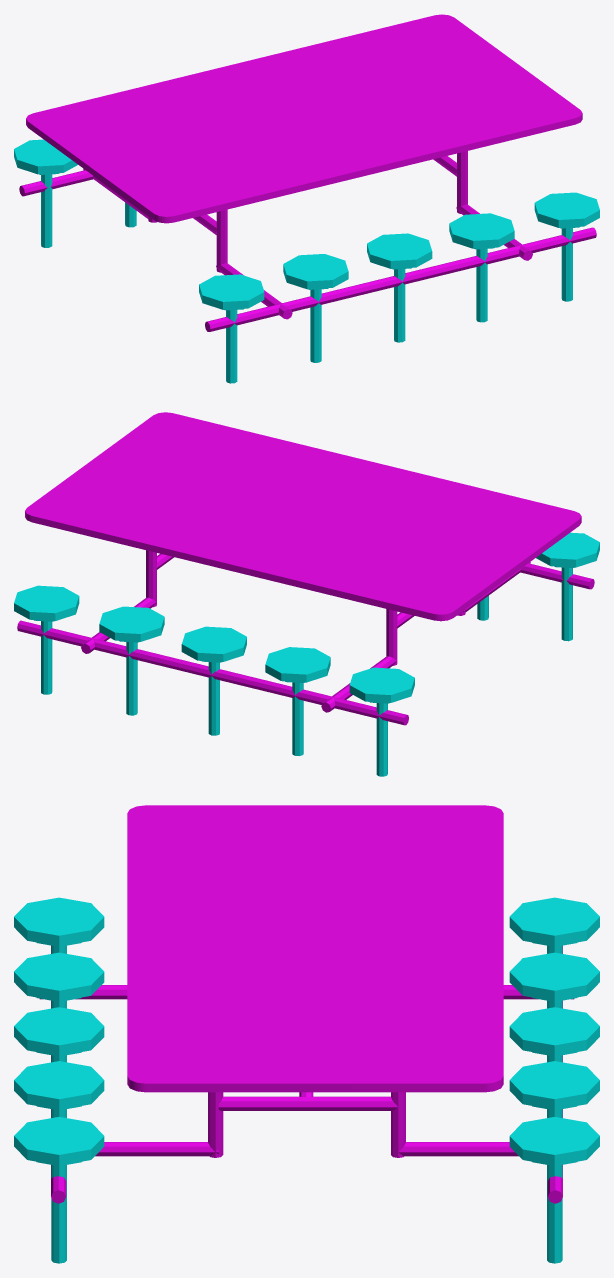
File: Mesa_Refeitório.fbx
The picture shows the model from 3 angles, top to bottom: view 1: azimuth 30°, elevation 25°; view 2: azimuth 150°, elevation 25°; view 3: azimuth 270°, elevation 25°; orthographic projection. The views are drawn at different scales.
Visible parts, largest first — view 1: Mesa1; view 2: Mesa1; view 3: Mesa1.
Part boxes in pixels (left/top/right/bottom): Mesa1: left=14, top=14, right=599, bottom=383; Mesa1: left=14, top=412, right=599, bottom=776; Mesa1: left=14, top=805, right=599, bottom=1263.
Bounding box in the file's own units: 3 × 1.04 × 2.67.
